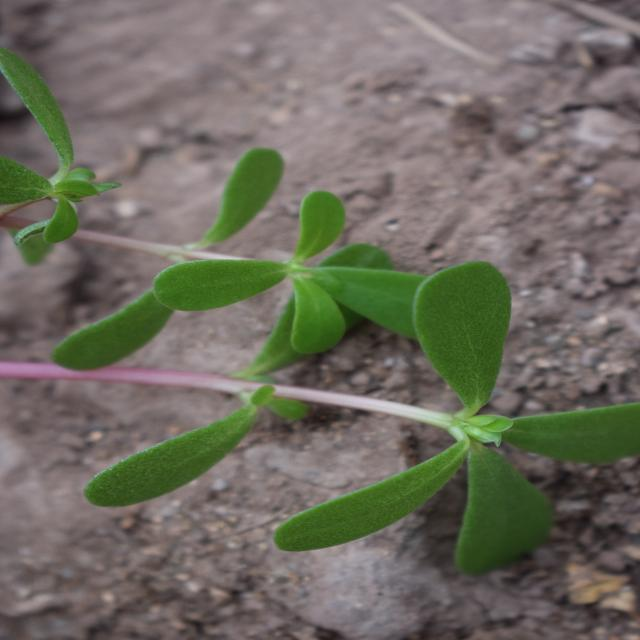purslane: (36, 67, 530, 586)
